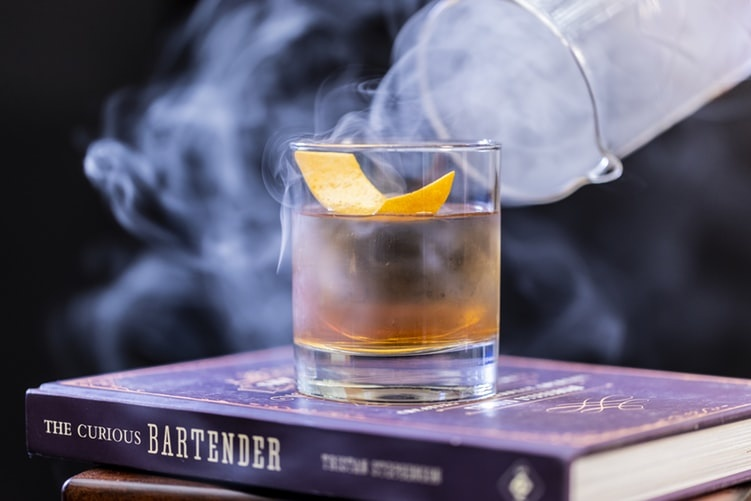whiskey: (294, 146, 498, 402)
